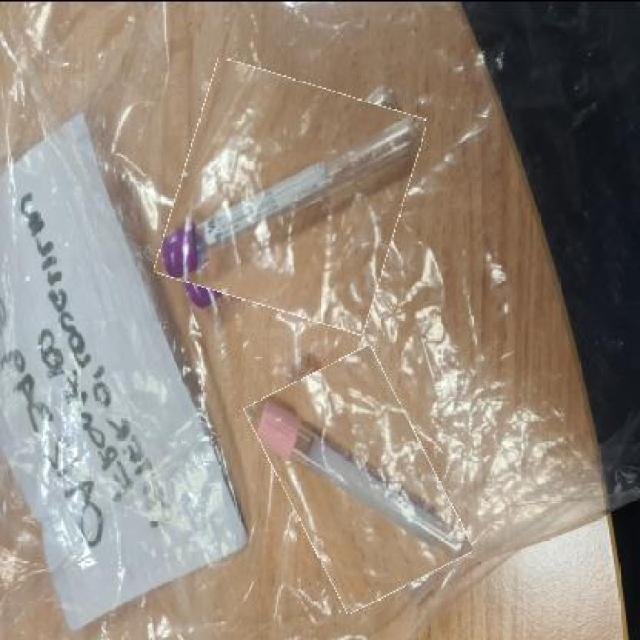Experimental-tube: (168, 68, 414, 320), (266, 353, 452, 602)
